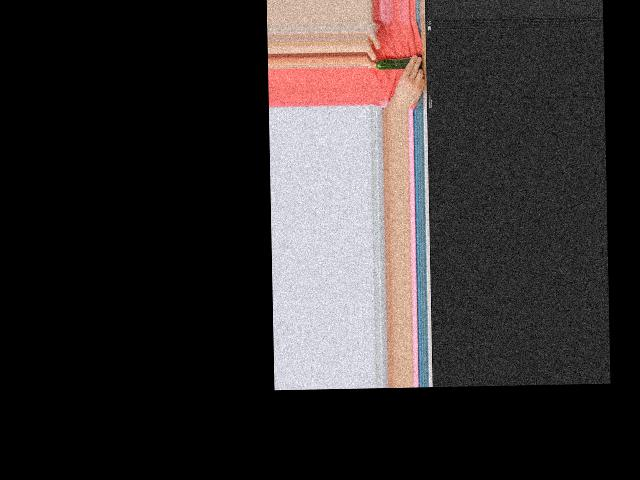cucumber: (375, 58, 411, 70)
